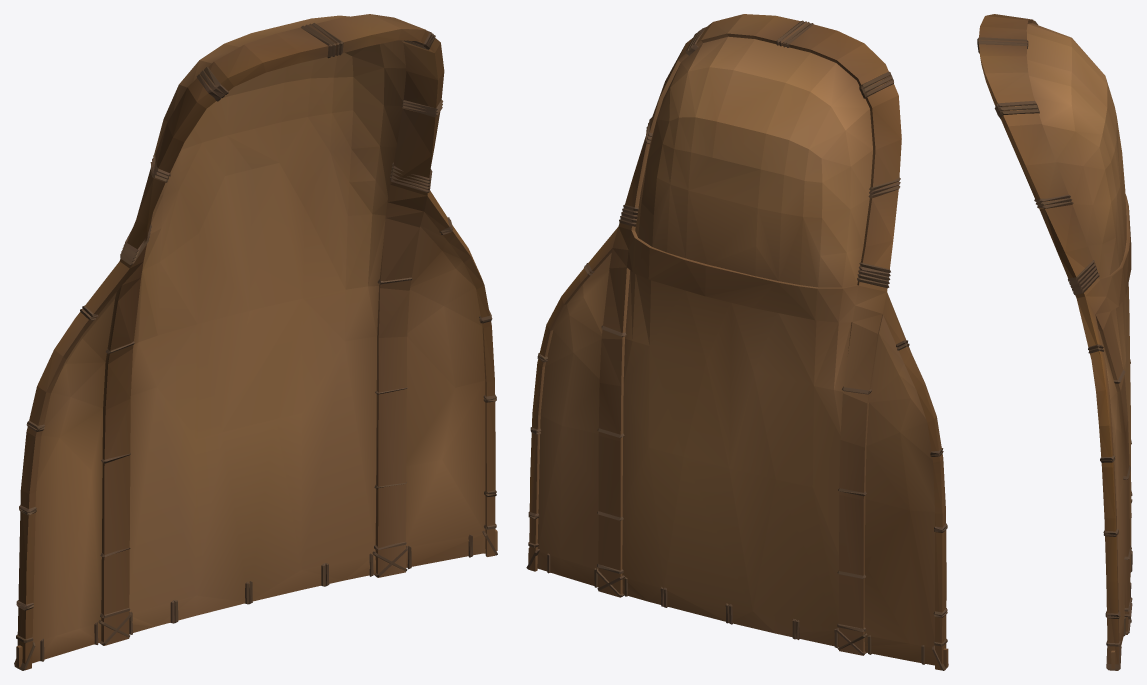
File: winnow_e29fd48a.glb
3 renders of one model, left to right at view 1: azimuth 30°, elevation 25°; view 2: azimuth 150°, elevation 25°; view 3: azimuth 270°, elevation 25°, orthographic. The views are drawn at different scales.
Visible parts, largest first — view 1: Winnow_baked_01 - Default_0; view 2: Winnow_baked_01 - Default_0; view 3: Winnow_baked_01 - Default_0.
Boxes of the visible parts, x1=… form: Winnow_baked_01 - Default_0: x1=14, y1=14, x2=497, y2=670; Winnow_baked_01 - Default_0: x1=526, y1=14, x2=948, y2=670; Winnow_baked_01 - Default_0: x1=977, y1=14, x2=1132, y2=670.
Size of the model in its own units: 0.6417 by 0.8008 by 0.2122.
